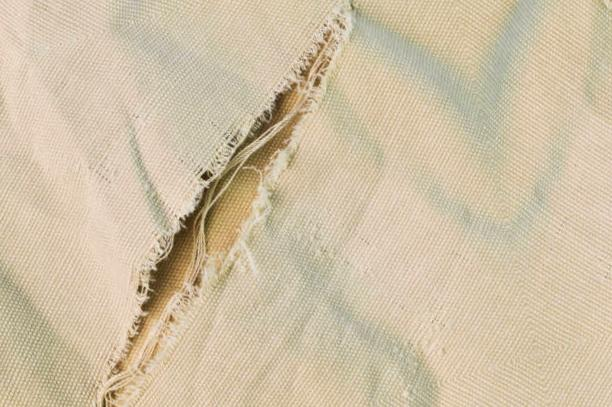hole: (91, 2, 371, 407)
